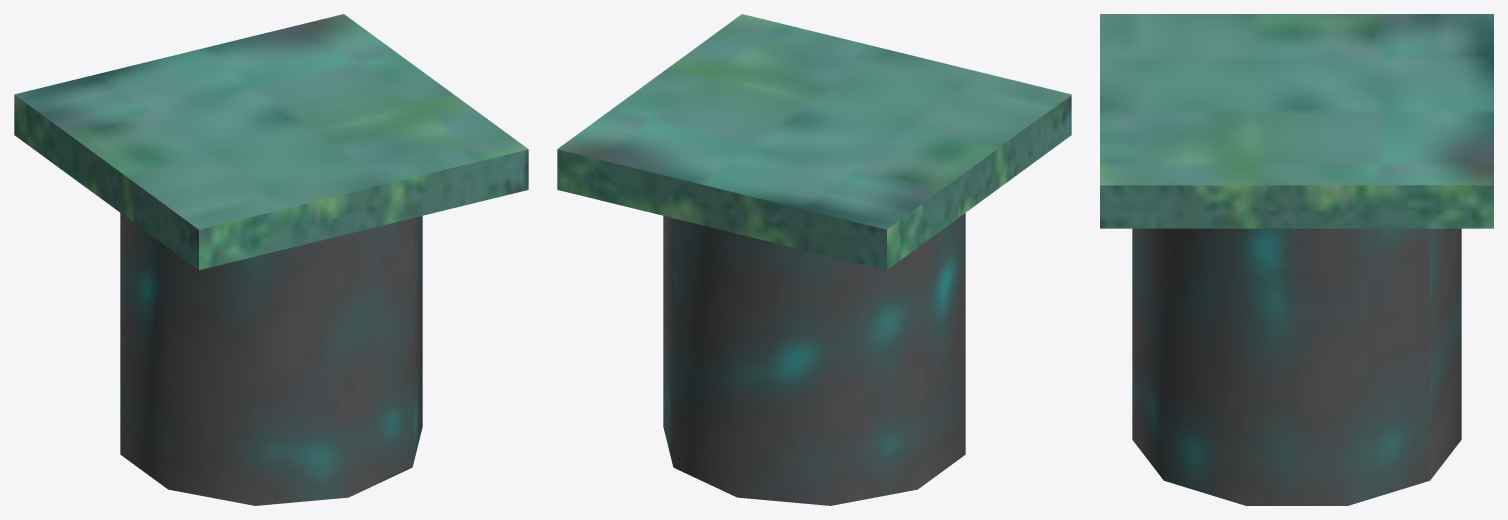
The model's file is platform.obj.
3 views of the same model, side by side, from view 1: azimuth 30°, elevation 25°; view 2: azimuth 150°, elevation 25°; view 3: azimuth 270°, elevation 25° (orthographic). The views are drawn at different scales.
Visible parts, largest first — view 1: Cube_Cube.001, Cylinder_Cylinder.001; view 2: Cube_Cube.001, Cylinder_Cylinder.001; view 3: Cylinder_Cylinder.001, Cube_Cube.001.
Boxes of the visible parts, x1,y1,x2,y2 form: Cube_Cube.001: (14,14,528,270); Cylinder_Cylinder.001: (120,213,422,505); Cube_Cube.001: (557,14,1071,270); Cylinder_Cylinder.001: (663,213,965,505); Cylinder_Cylinder.001: (1132,228,1461,505); Cube_Cube.001: (1100,14,1493,228).
Size of the model in its own units: 6.52 by 6.03 by 6.33.
Materials: 2 (2 with a texture image).
